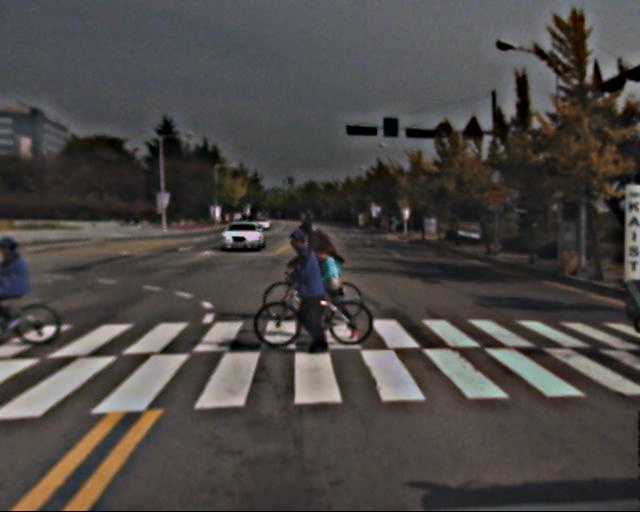person: (285, 234, 340, 355), (294, 220, 344, 326), (310, 244, 354, 340)
